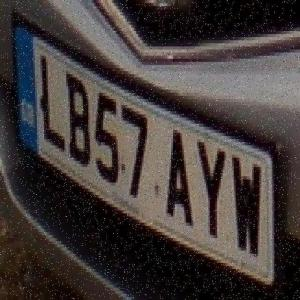Plate: (7, 8, 290, 290)
